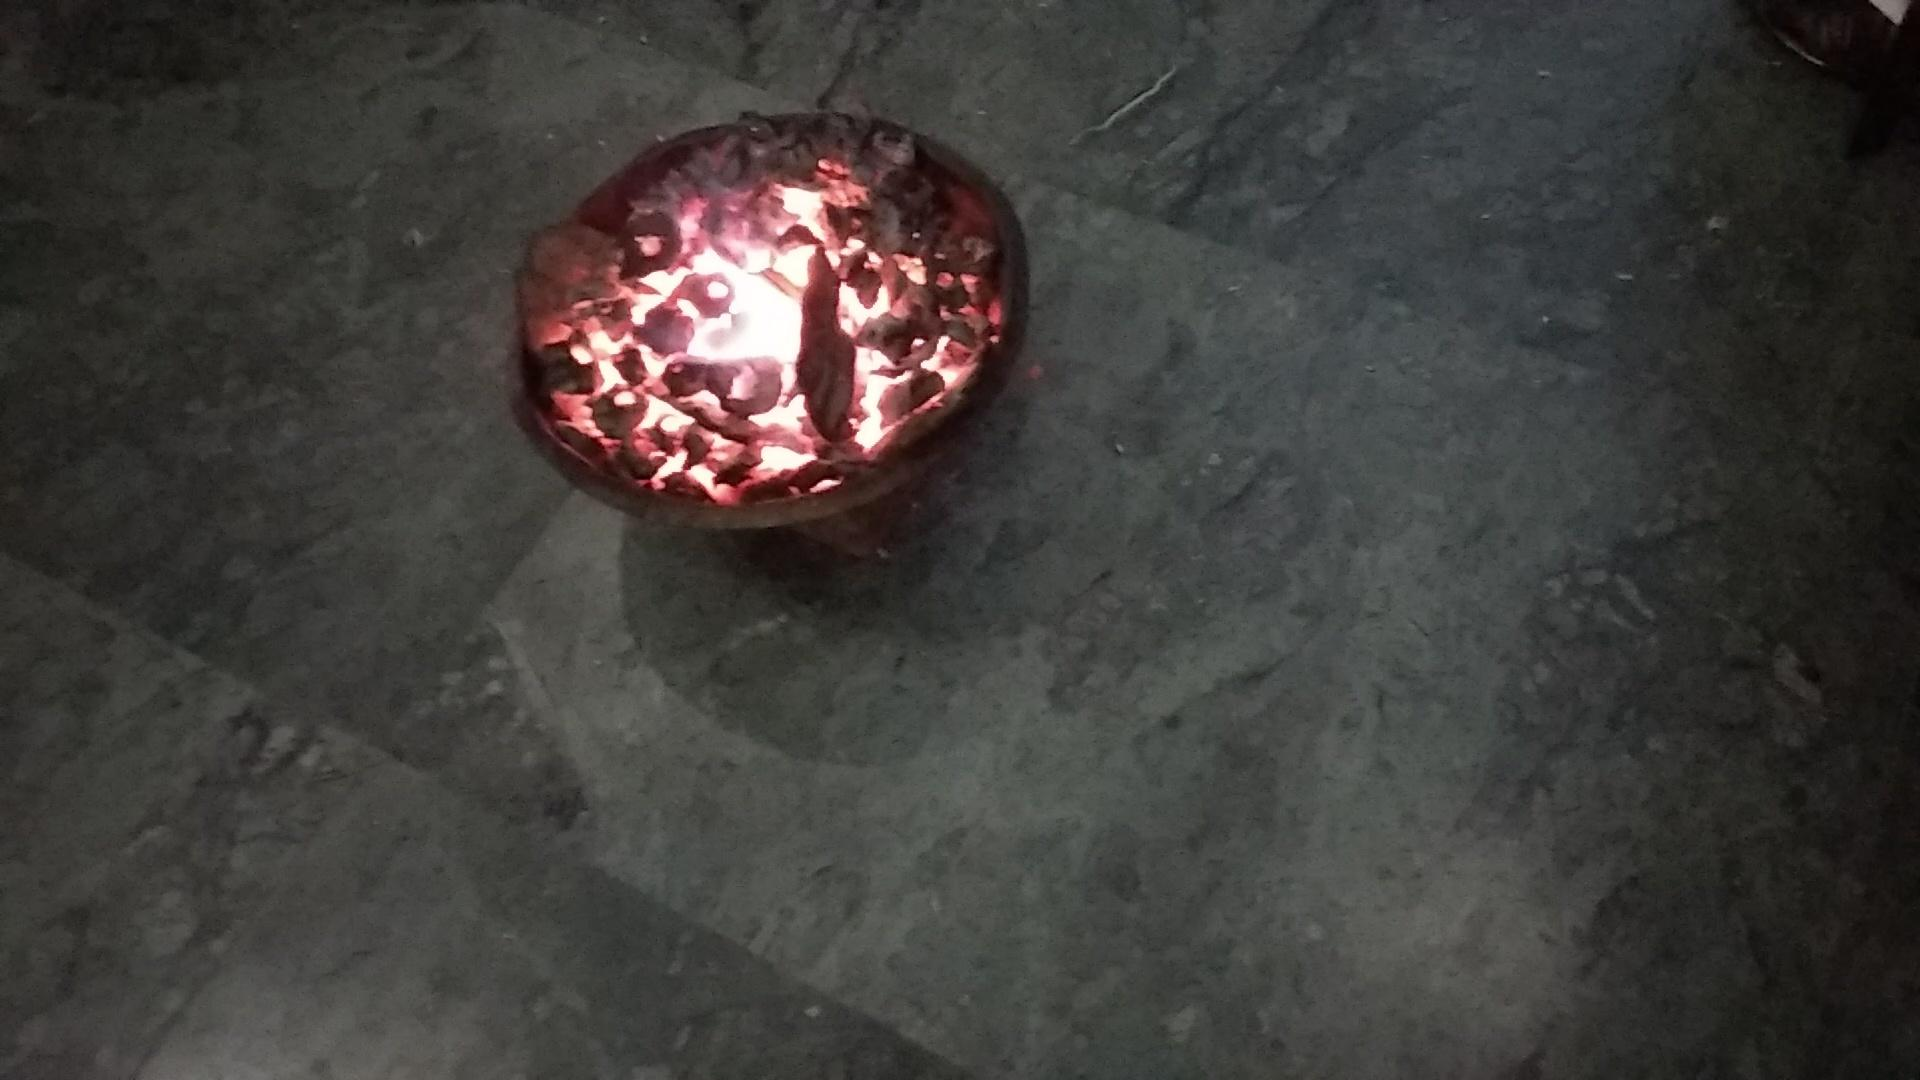fire: (530, 145, 1009, 563)
